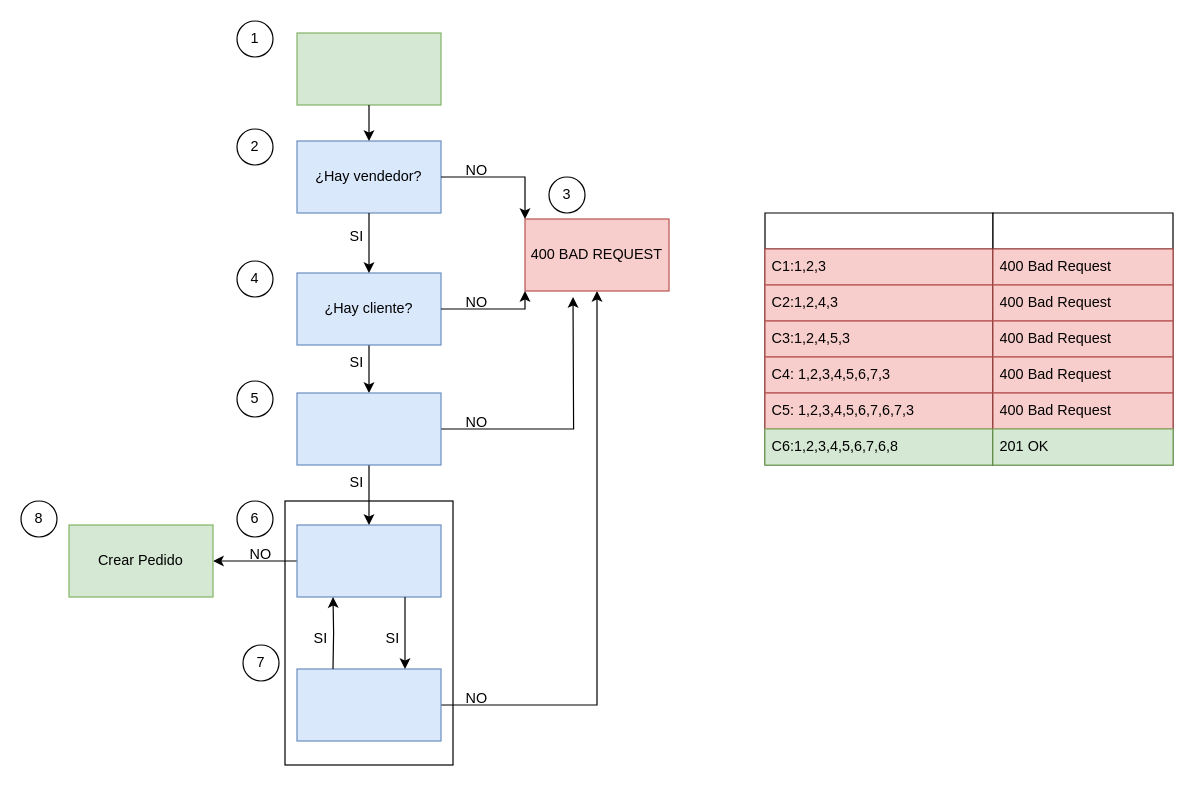
Some shapes in this 1194 by 786 pixel diagram are drawn without their labels. Here are the shapes that lost their labels. From the top down, the box of each, then its label:
(296, 32, 441, 105): Solicitud crear pedido
(764, 212, 993, 465): Complejidad ciclomatica= 5+1
(992, 212, 1173, 465): Resultado esperado
(296, 392, 441, 465): ¿Hay lineas de pedido?
(296, 524, 441, 597): ¿Hay lineas de pedido sin procesar?
(296, 668, 441, 741): ¿Hay Stock?
